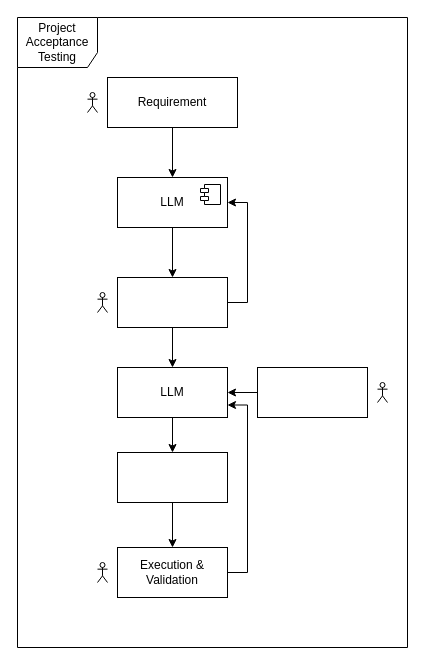
Image size: 425x665. Some labels were removed from this diagram. Here are the shapes that lost their labels. From the top down, the box of each, then its label:
(116, 276, 228, 328): Test Description
(256, 366, 368, 418): Source Code
(116, 452, 228, 502): Test Case Implementation
